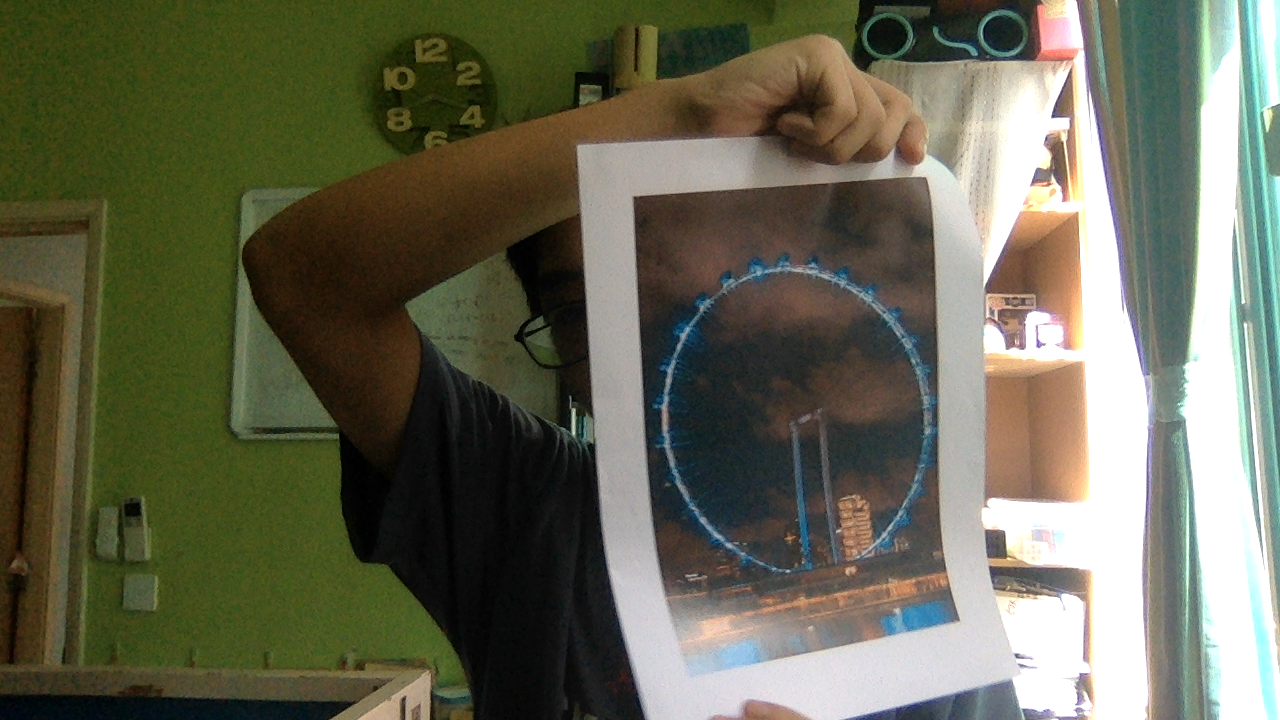Flyer: (631, 183, 974, 670)
